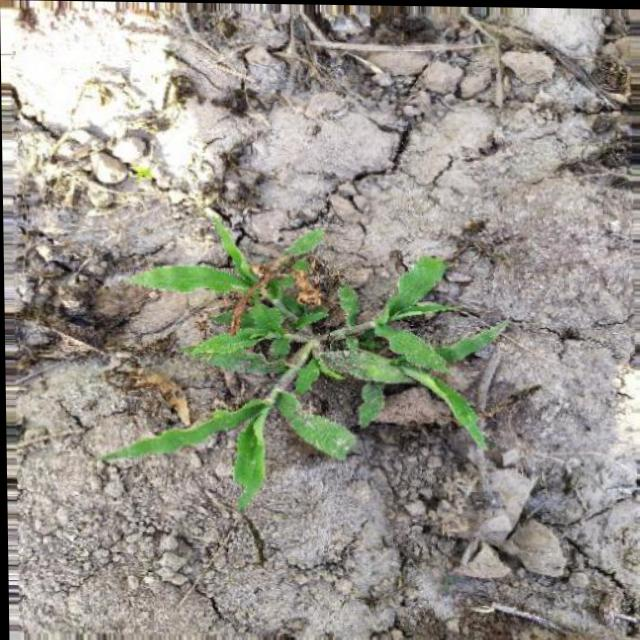weed: (93, 205, 536, 515)
